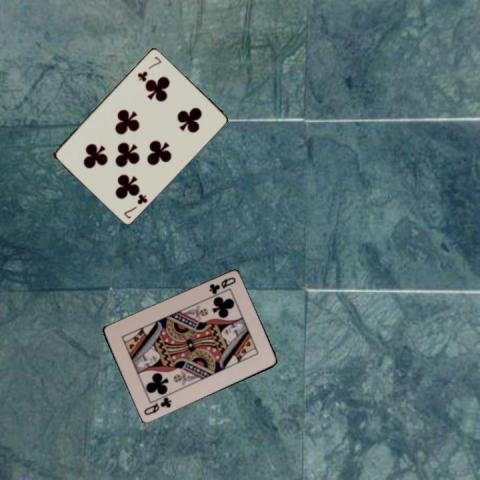7c: (120, 191, 148, 220), (134, 53, 162, 81)
Qc: (140, 394, 172, 417), (206, 274, 237, 296)
